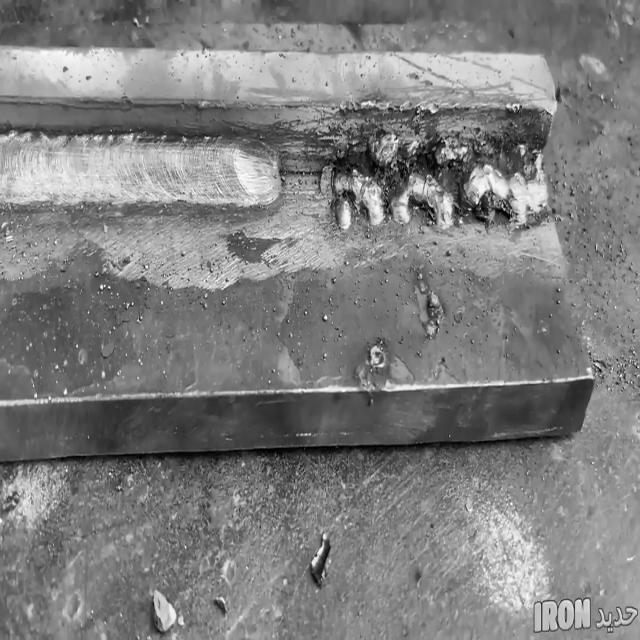Bad Welding: (322, 118, 548, 234)
Good Welding: (0, 122, 280, 217)
